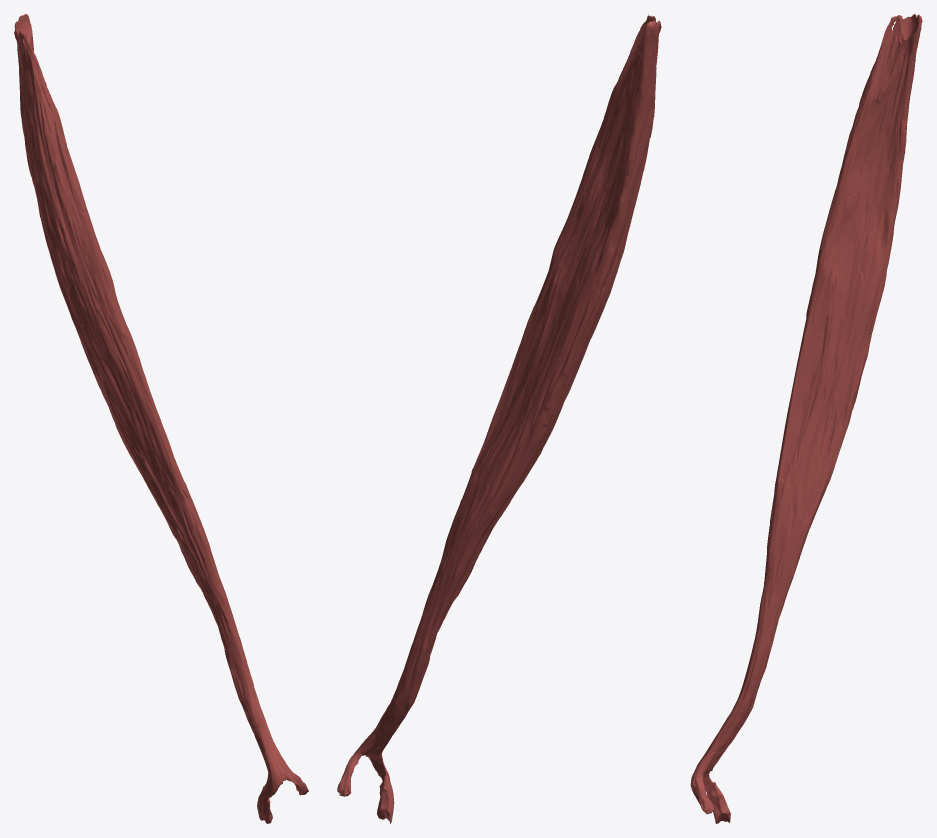
The model's file is FMA38618.glb.
3 views of the same model, side by side, from view 1: azimuth 30°, elevation 25°; view 2: azimuth 210°, elevation 25°; view 3: azimuth 270°, elevation 25° (orthographic). The views are drawn at different scales.
Visible parts, largest first — view 1: FMA38618; view 2: FMA38618; view 3: FMA38618.
Part boxes in pixels (x1=…): FMA38618: x1=14, y1=14, x2=308, y2=823; FMA38618: x1=337, y1=14, x2=661, y2=823; FMA38618: x1=690, y1=14, x2=922, y2=823.
Bounding box in the file's own units: 0.0687 × 0.2668 × 0.0756.
